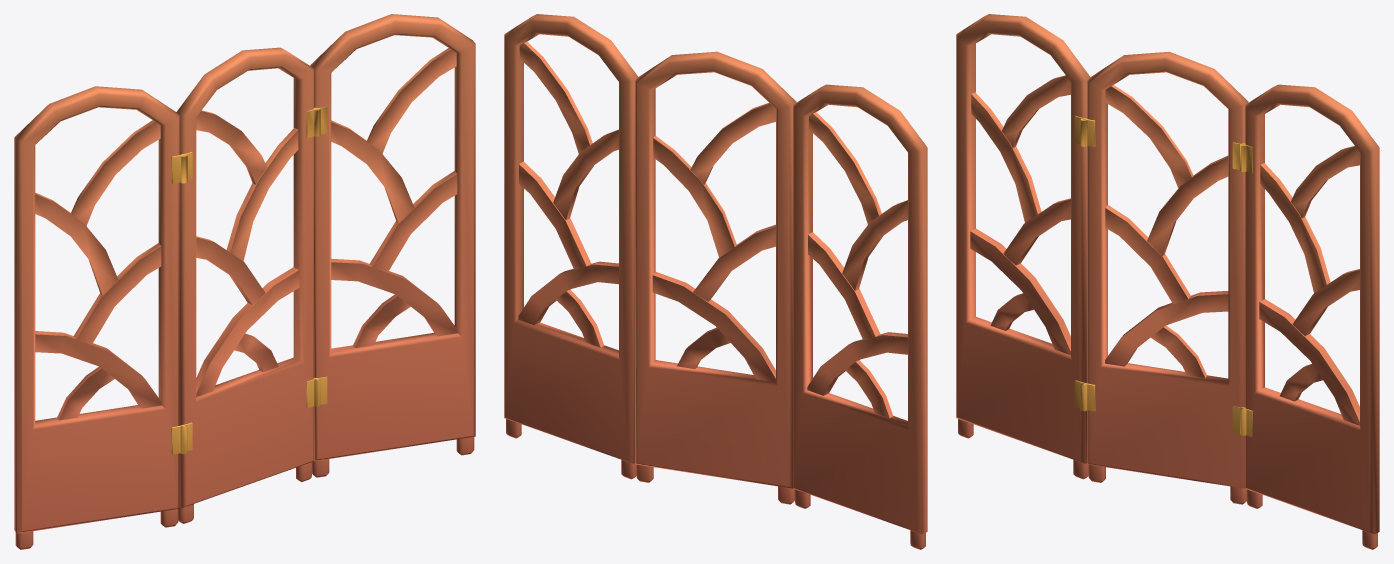
Rendered from Furniture_Partition_4.fbx.
3 renders of one model, left to right at view 1: azimuth 30°, elevation 25°; view 2: azimuth 150°, elevation 25°; view 3: azimuth 330°, elevation 25°, orthographic. The views are drawn at different scales.
Parts seen in each view (by area): view 1: Furniture_Partition_4; view 2: Furniture_Partition_4; view 3: Furniture_Partition_4.
Boxes of the visible parts, x1=… form: Furniture_Partition_4: x1=14, y1=14, x2=475, y2=549; Furniture_Partition_4: x1=504, y1=14, x2=927, y2=549; Furniture_Partition_4: x1=956, y1=14, x2=1379, y2=549.
Bounding box in the file's own units: 324 × 313 × 31.83.
